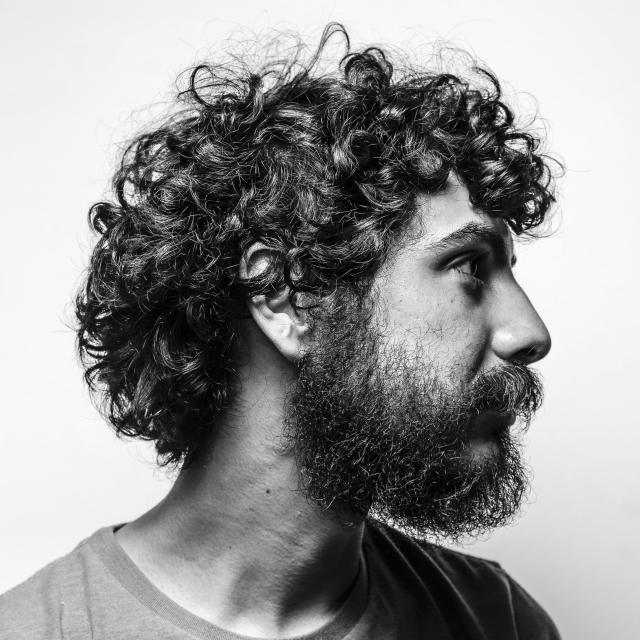adult: (0, 74, 553, 640)
